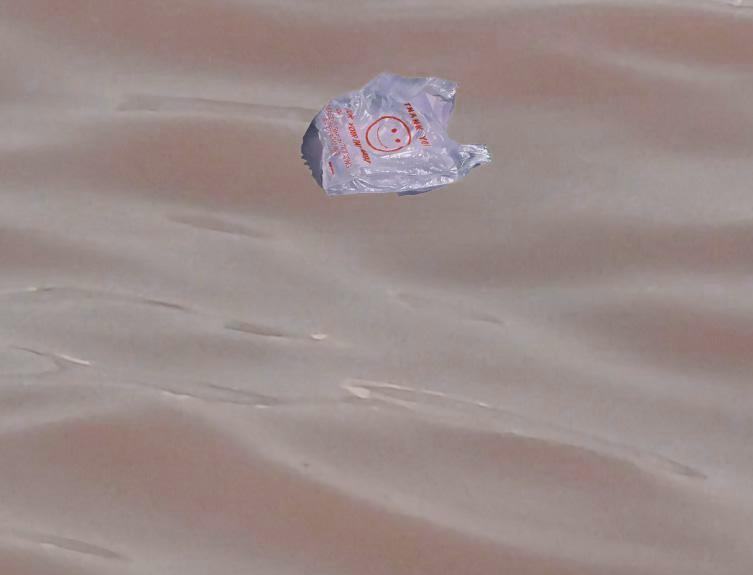Trash: (313, 66, 494, 197)
